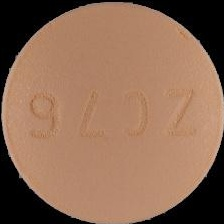68084-273: (0, 0, 224, 224)
